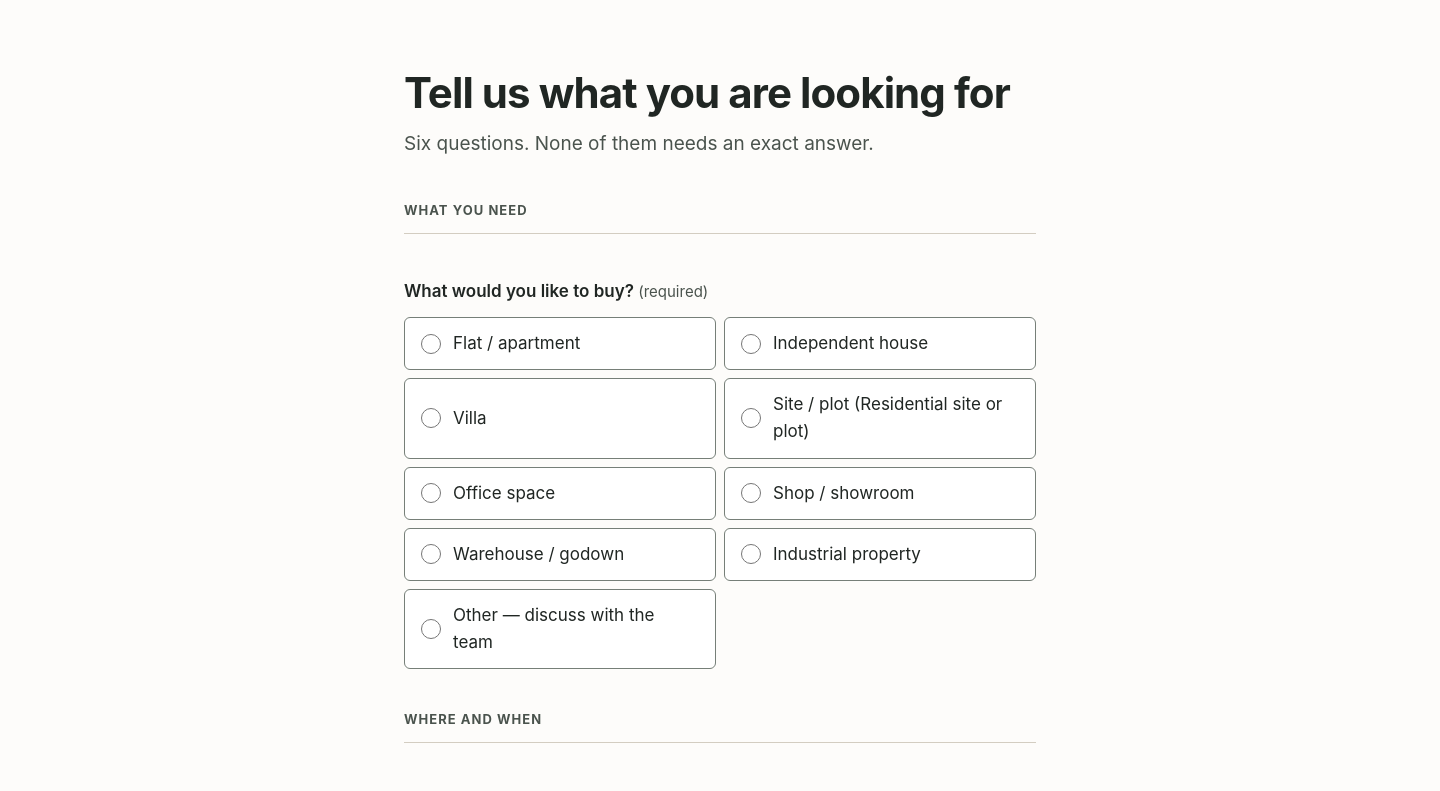
submission outcomes › shows a reference on success and echoes no personal data back
Click the radio button labelled "Flat / apartment" at (431, 344), box [421,334,441,354]
(page scrolled)
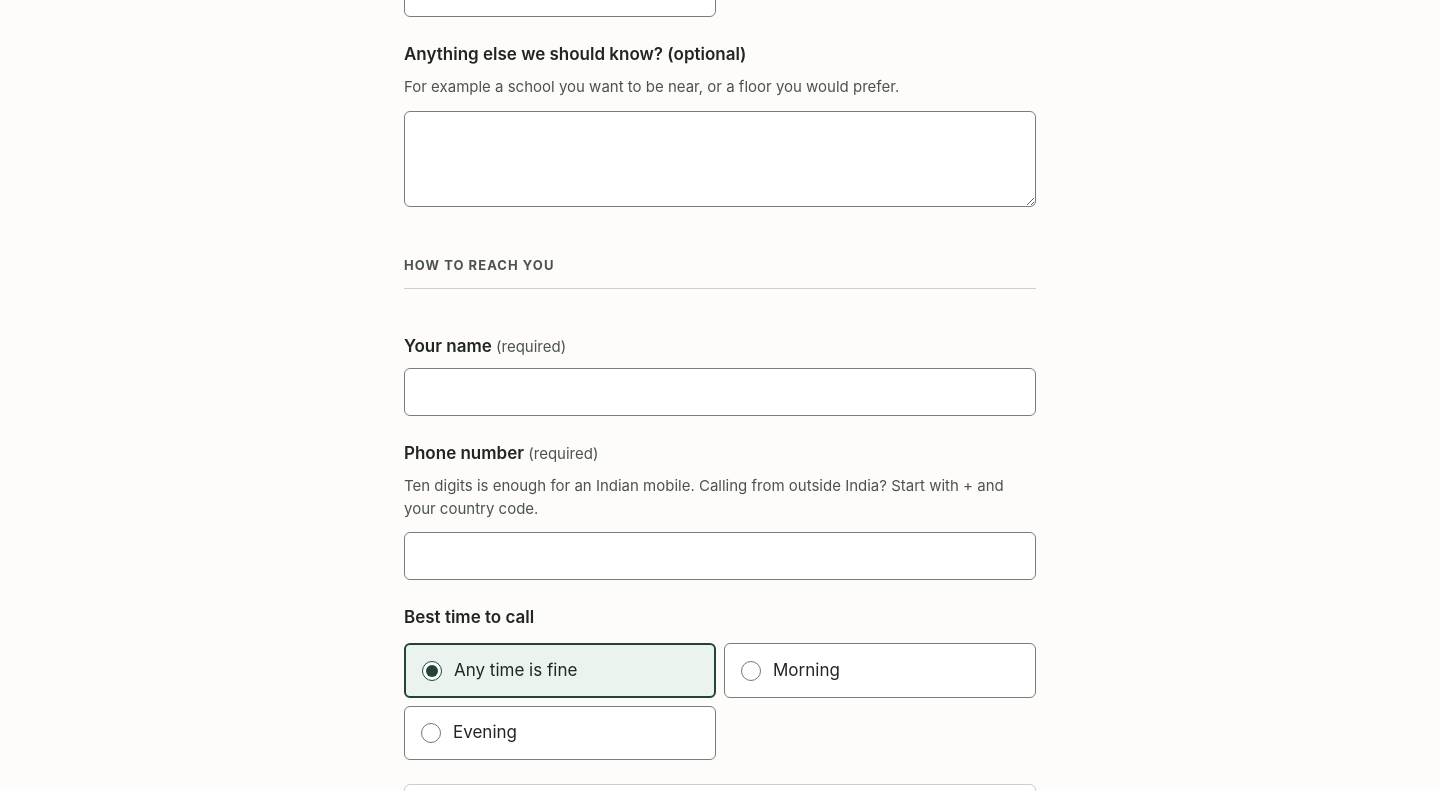
Type "Synthetic Test Person" into the field labelled "Your name (required)" at (720, 392), box [404,368,1036,416]
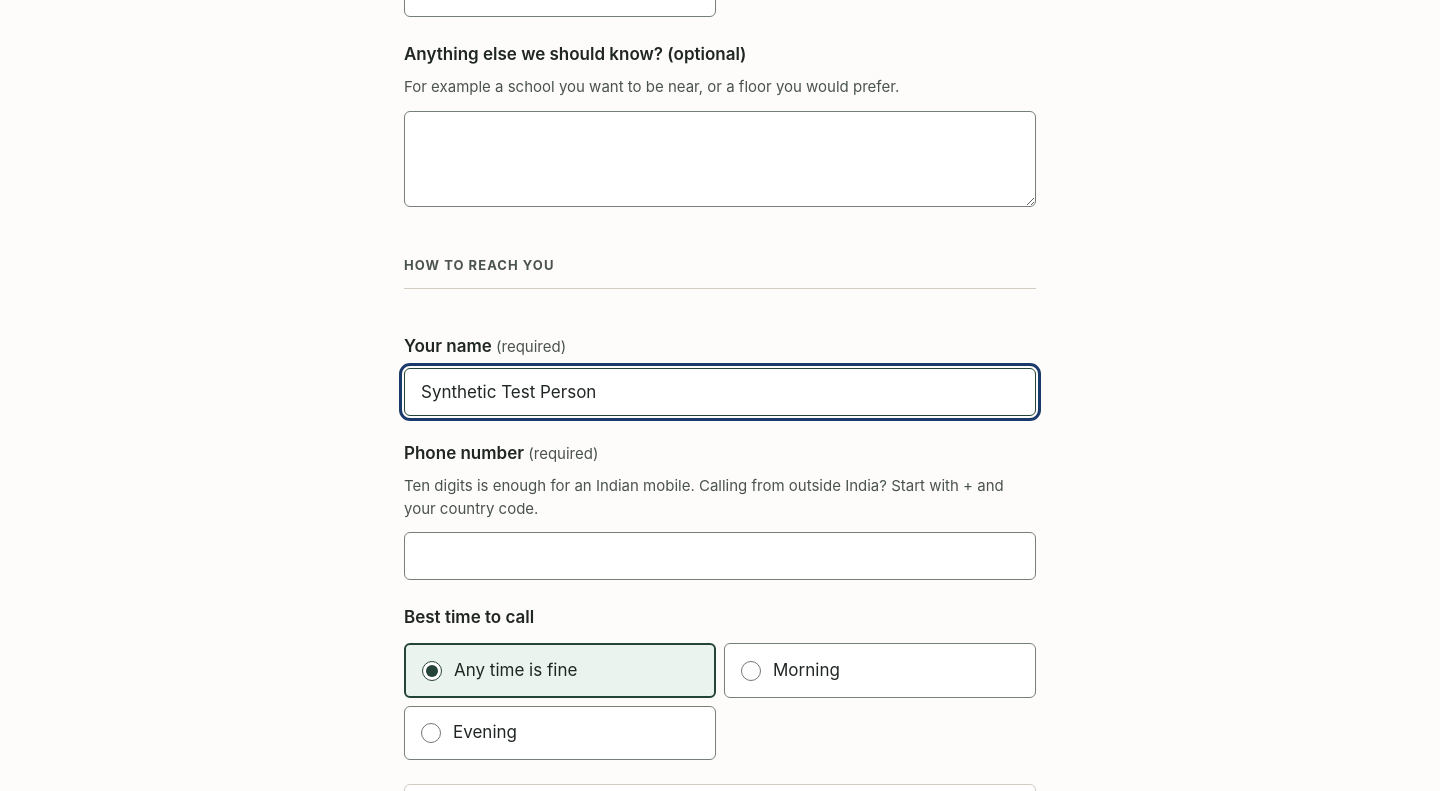
Type "9845012345" into the field labelled "Phone number (required)" at (720, 556), box [404,532,1036,580]
(page scrolled)
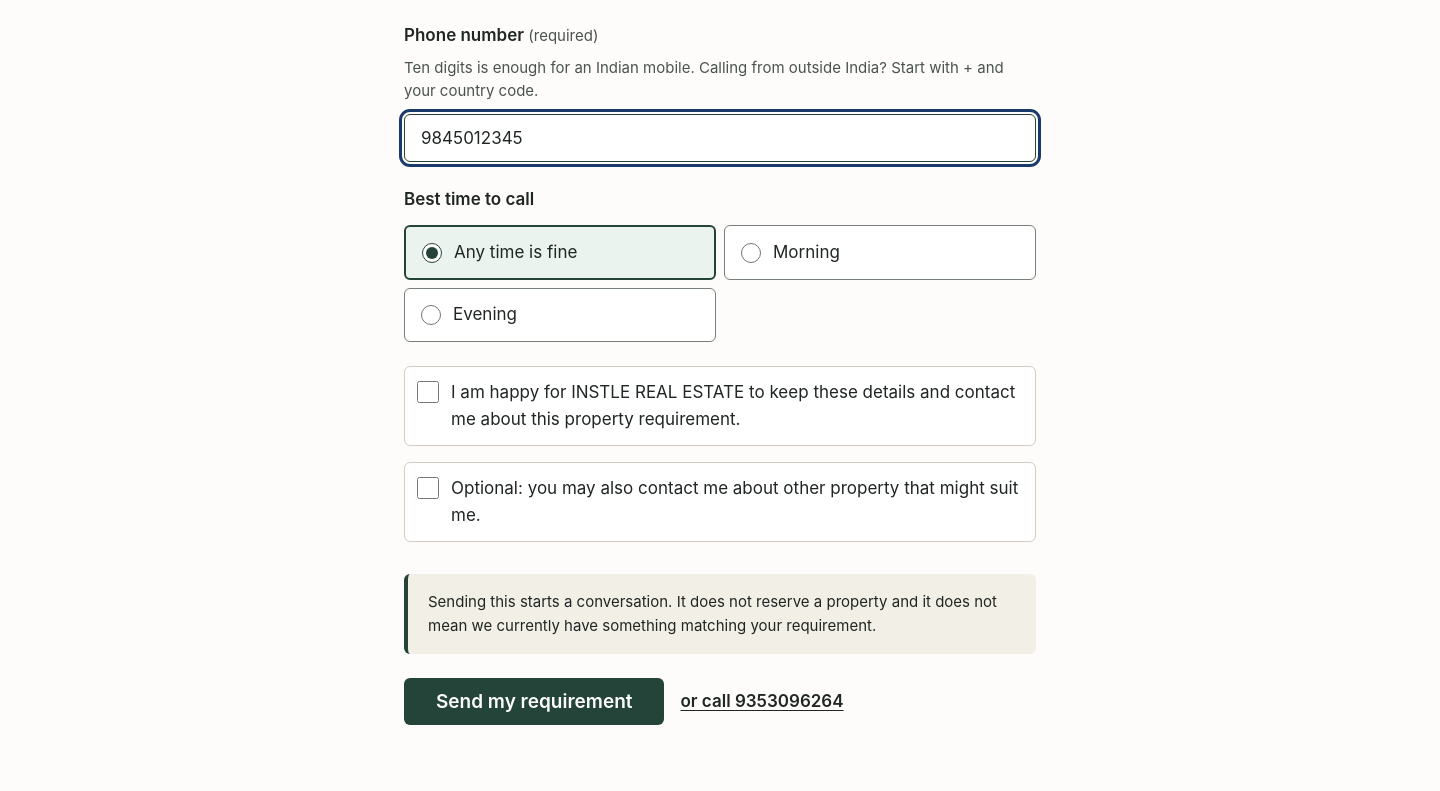
Click the checkbox labelled "happy for" at (428, 392), box [417,381,439,403]
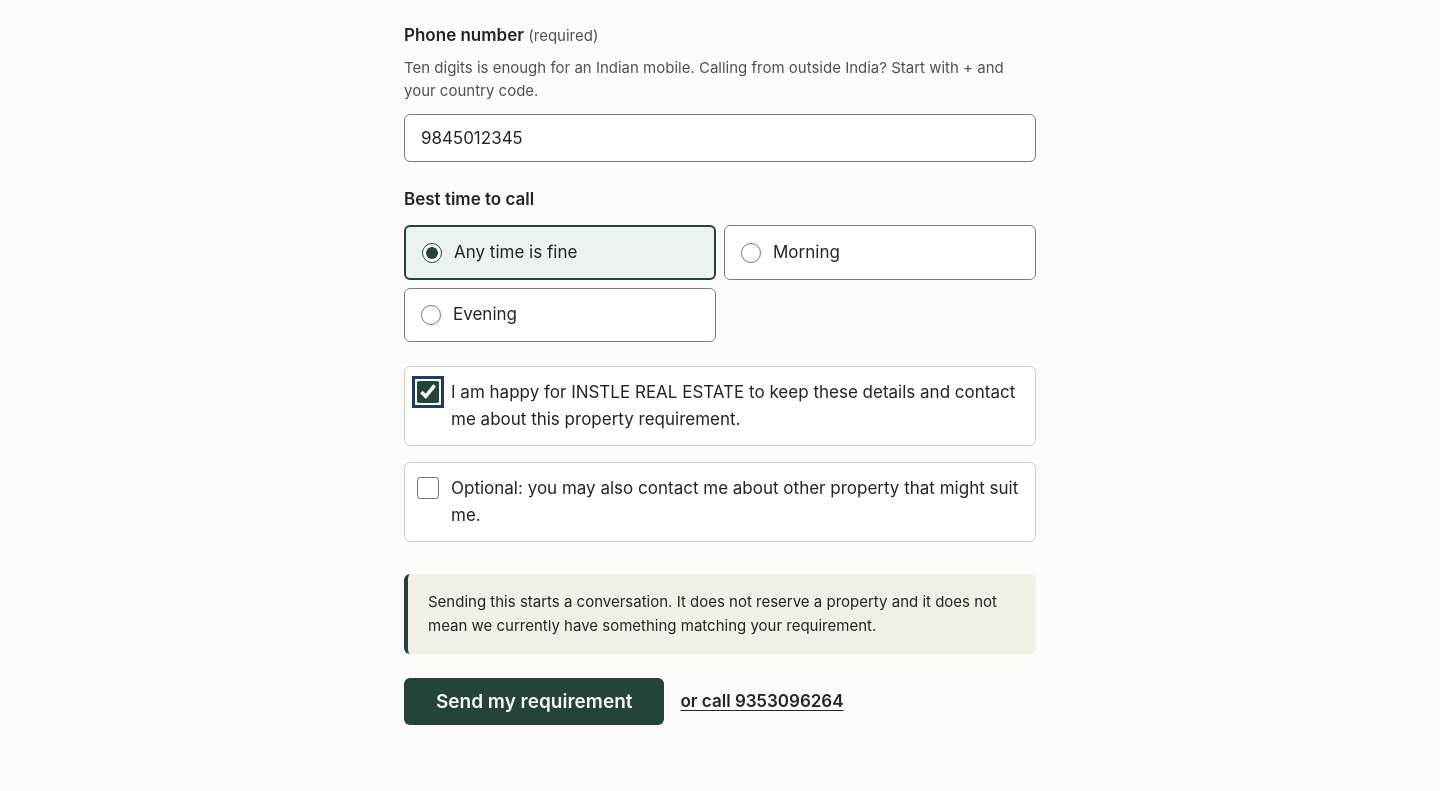
Click the button "Send my requirement" at (534, 702), box [404,678,664,725]
(page scrolled)
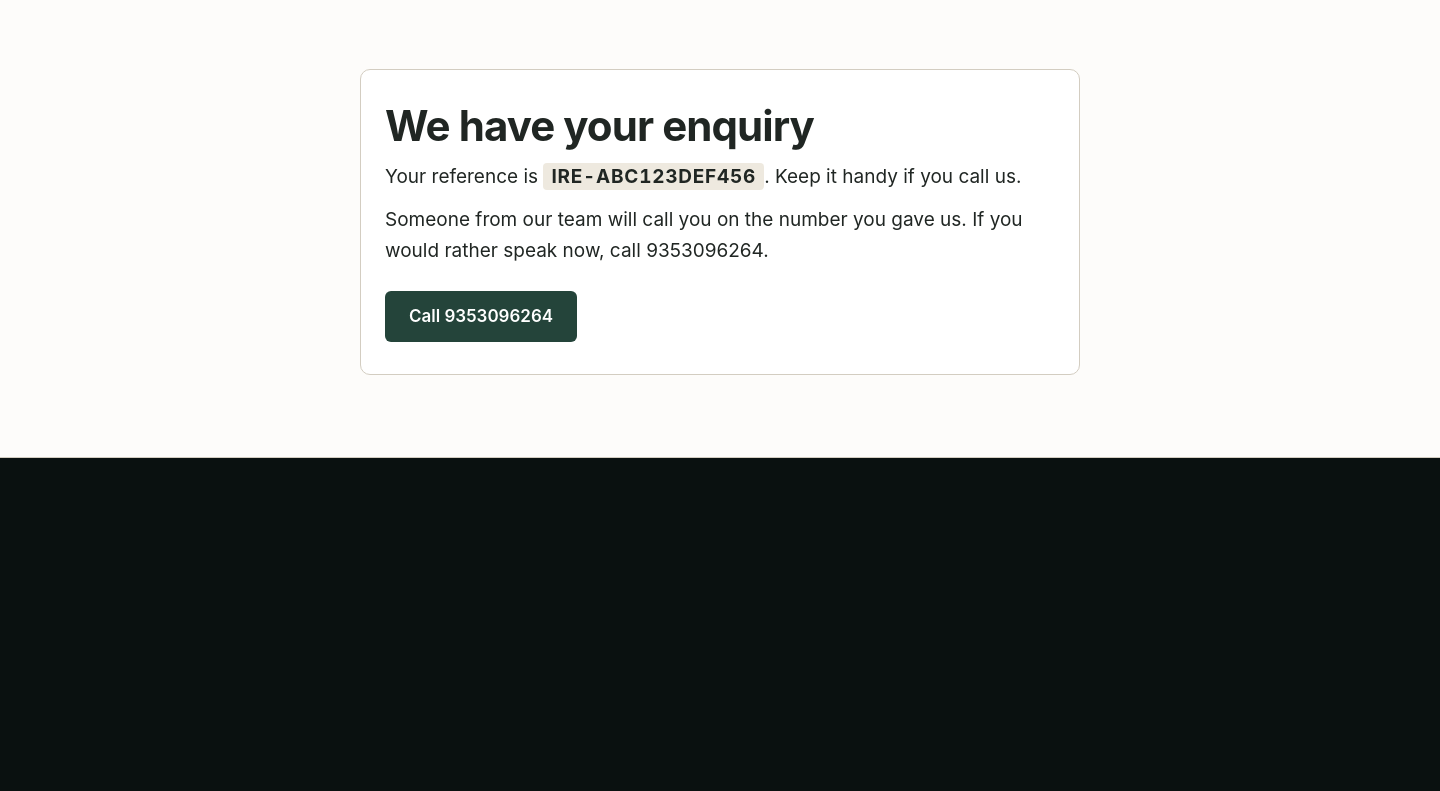
Expected: the text "Synthetic Test Person" is not shown
Expected: the text "IRE-ABC123DEF456" is shown, [543,163,764,190]
